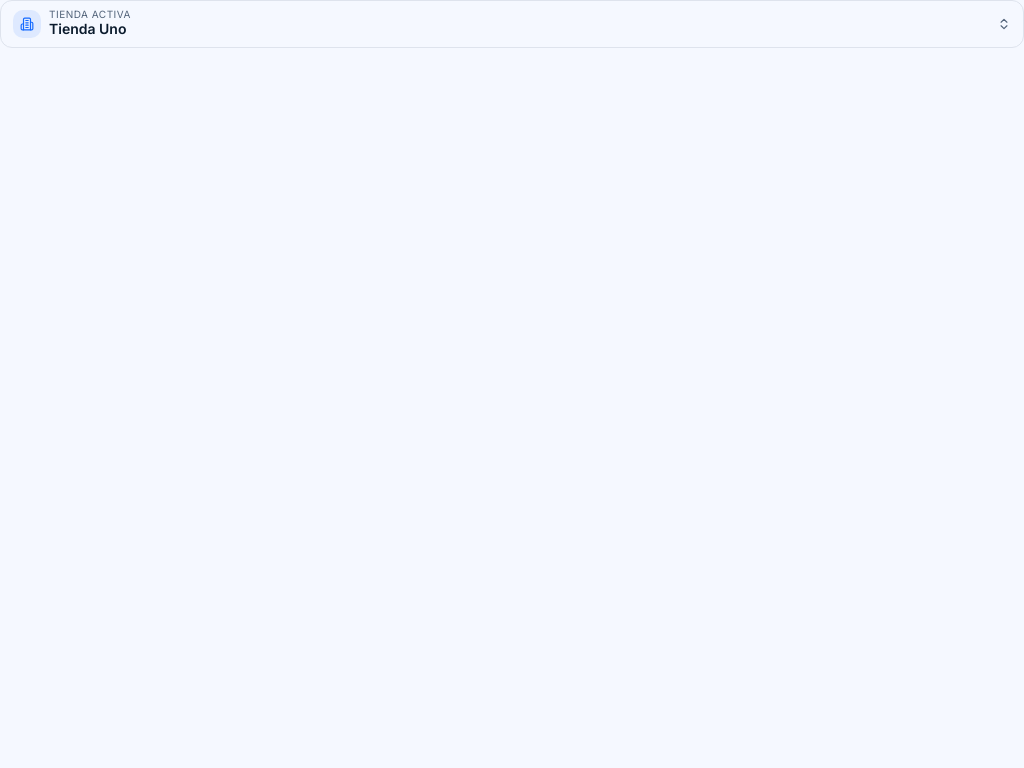
TenantSwitcher › abre el popover y lista todas las tiendas
Click the text "Tienda Uno" at (90, 29), box [49, 19, 131, 39]
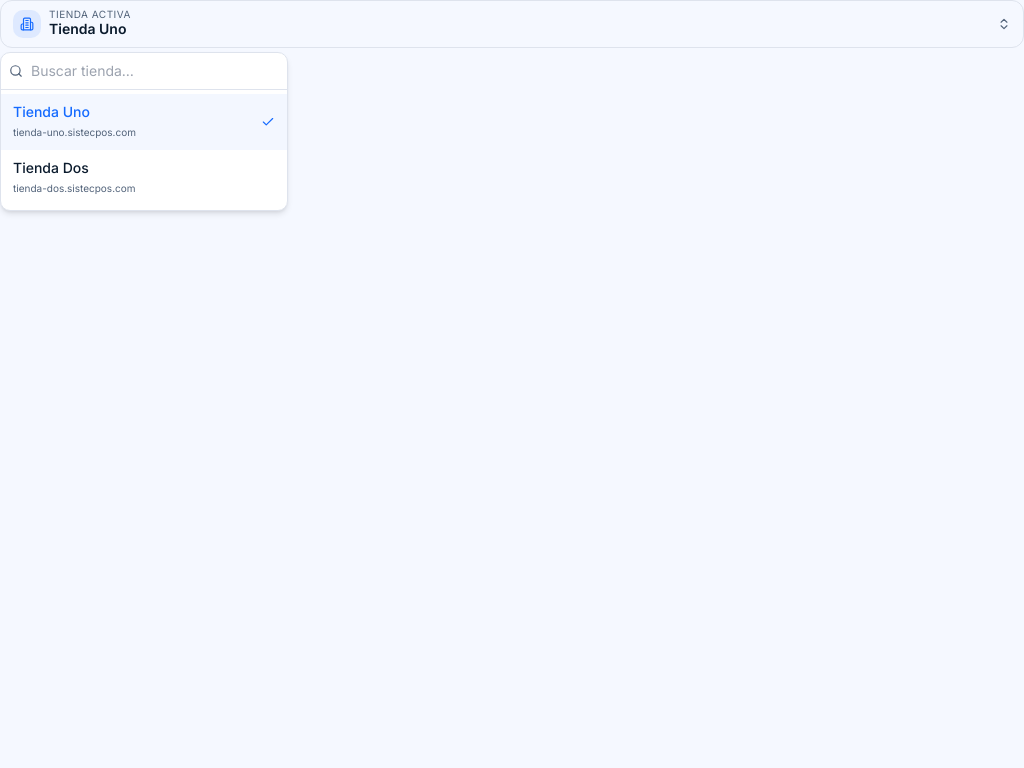
Now the text "Tienda Dos" is shown, box [13, 159, 89, 176]
